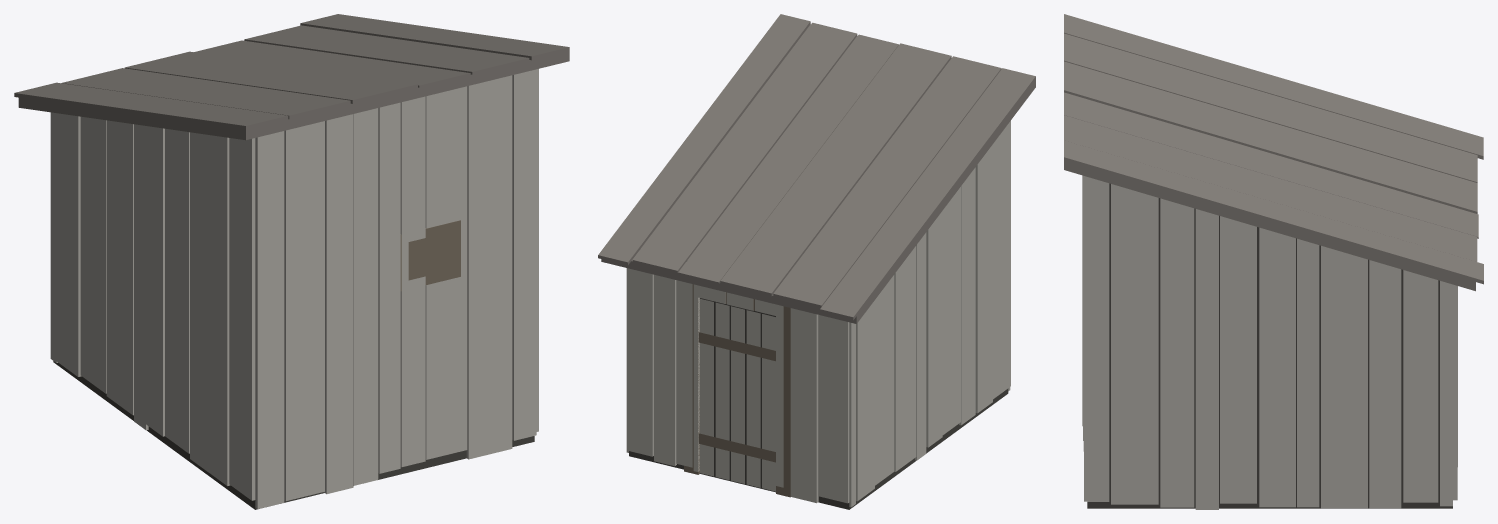
File: recon_1835_west_013__inferred_1835.glb
3 renders of one model, left to right at view 1: azimuth 30°, elevation 25°; view 2: azimuth 150°, elevation 25°; view 3: azimuth 270°, elevation 25°, orthographic. The views are drawn at different scales.
Visible parts, largest first — view 1: recon_1835_west_013__inferred_1835; view 2: recon_1835_west_013__inferred_1835; view 3: recon_1835_west_013__inferred_1835.
Boxes of the visible parts, x1,y1,x2,y2 form: recon_1835_west_013__inferred_1835: (14, 14, 569, 509); recon_1835_west_013__inferred_1835: (598, 14, 1035, 509); recon_1835_west_013__inferred_1835: (1064, 14, 1483, 509).
Size of the model in its own units: 2.82 by 3.32 by 3.5.
